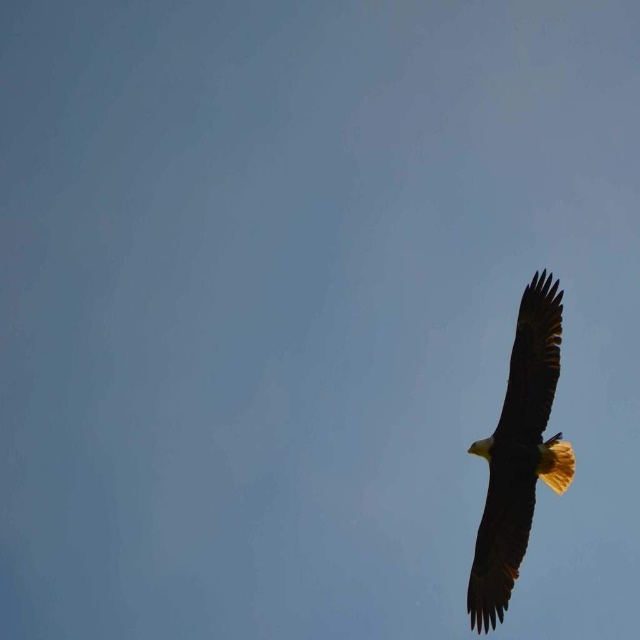Eagle: (467, 269, 571, 633)
